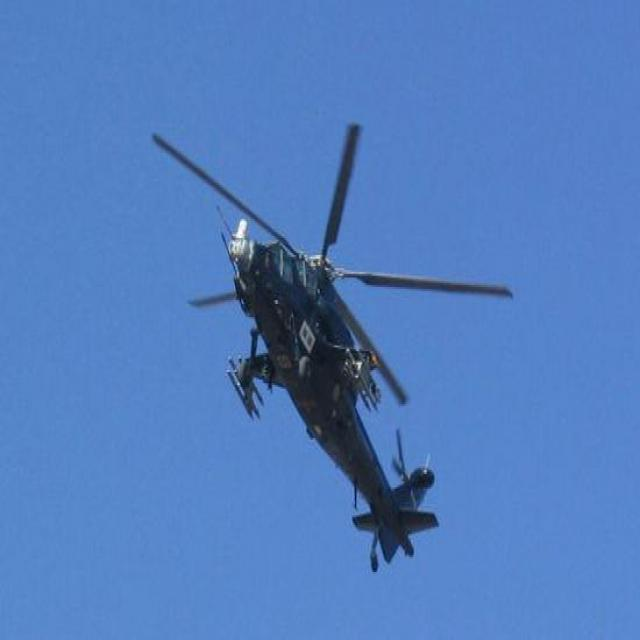MIL_HELO: (149, 116, 527, 585)
